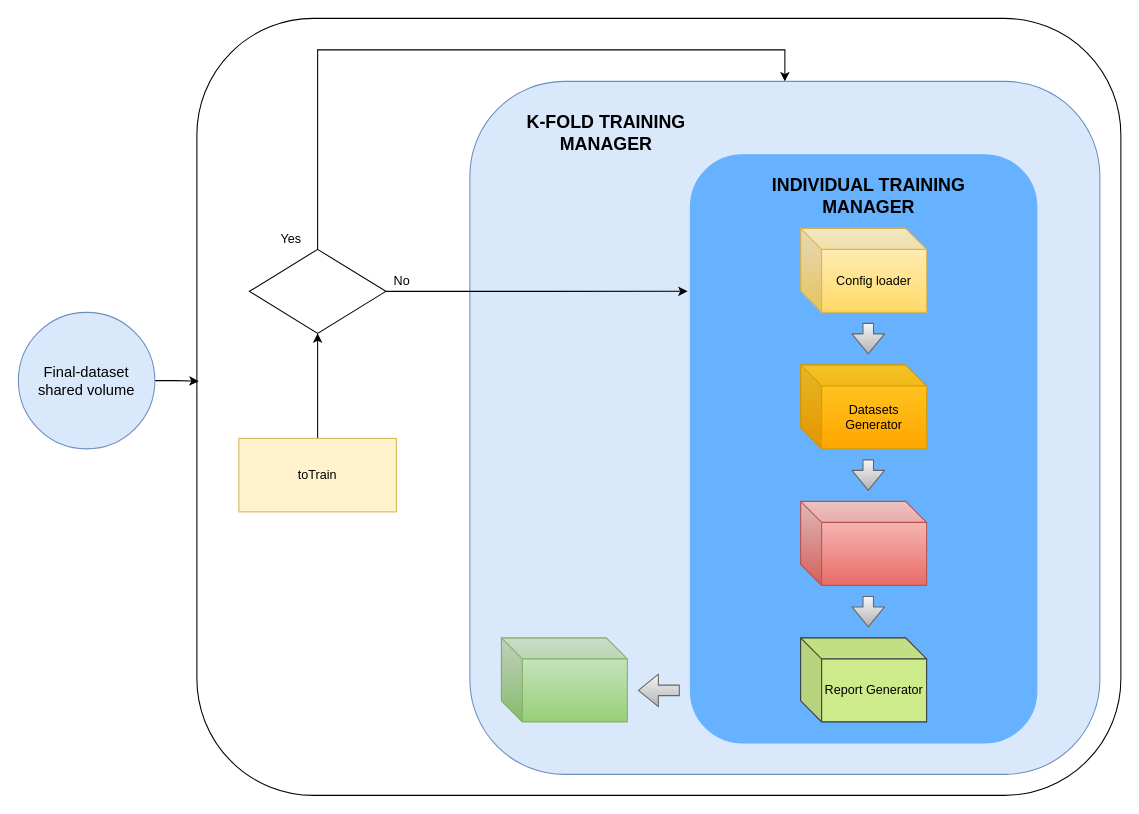
Some shapes in this 1139 by 814 pixel diagram are drawn without their labels. The shapes that lost their labels are listed below. From the top down, each one's centre as x and y in pixels, then its label:
At [317,290]: "K-fold?".
At [863,542]: "Train core".
At [563,679]: "Aggregated Report Generator".
